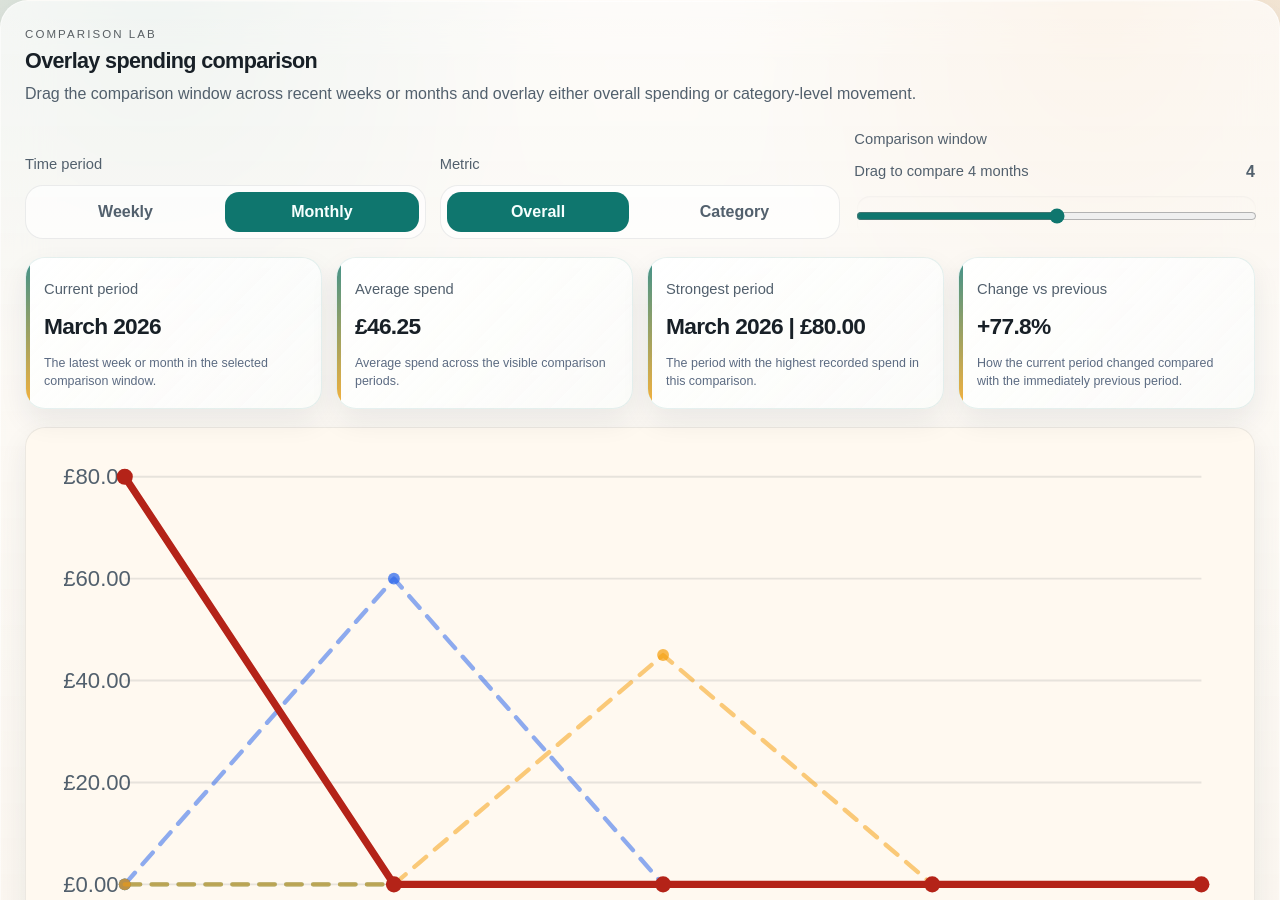
Test: SpendingComparisonPanel › lets the user drag the comparison window
Set the slider to "6" at (1249, 216), box [856, 195, 1257, 237]
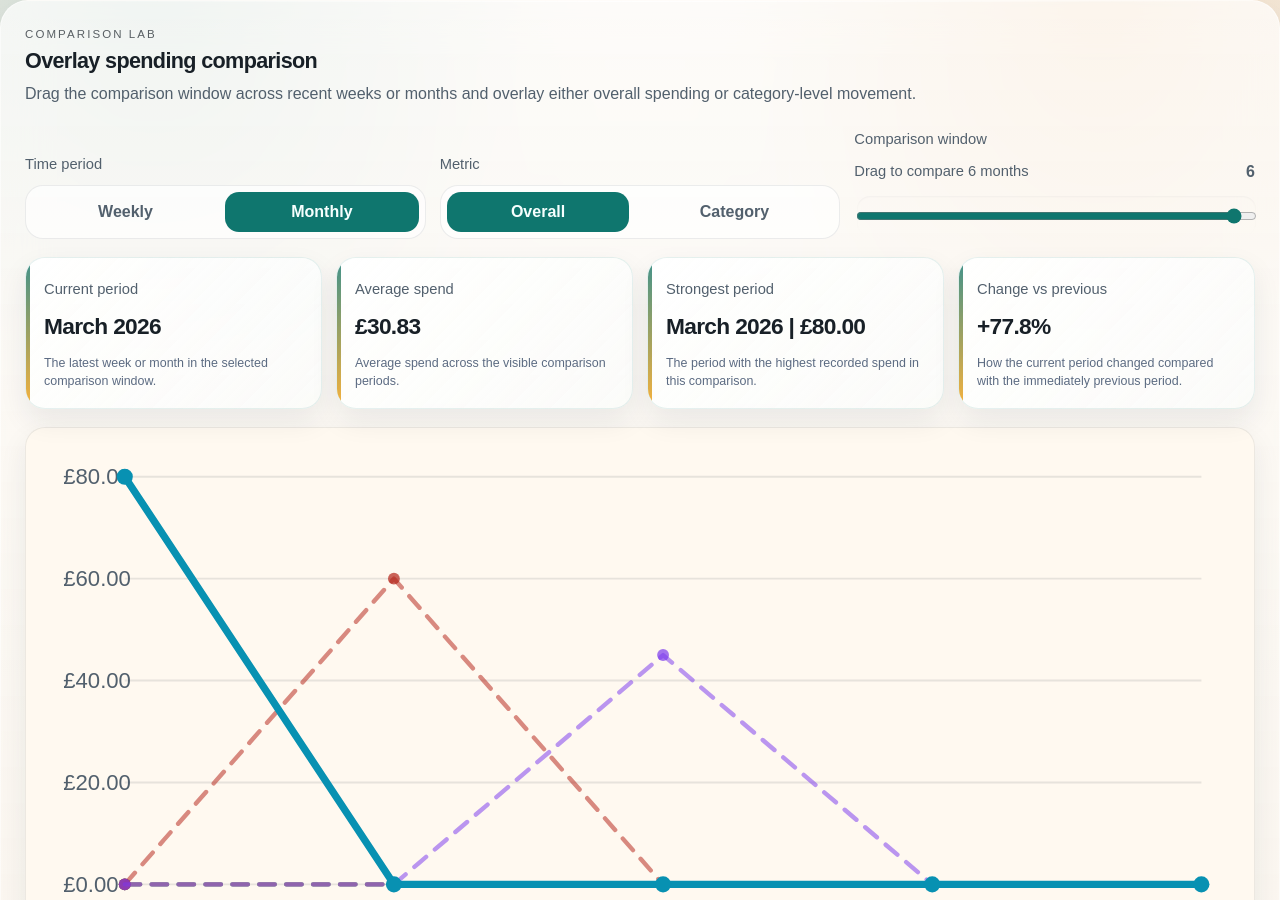
Now the text "Drag to compare 6 months" is shown, box [854, 160, 1029, 184]
